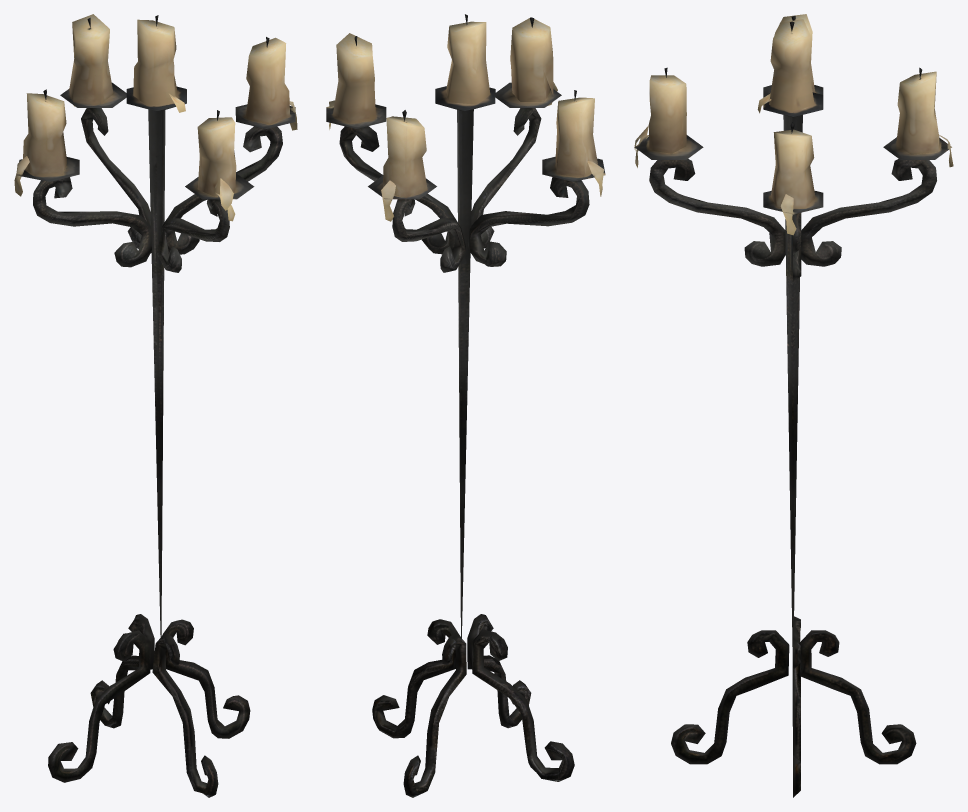
File: candelabro.fbx
The picture shows the model from 3 angles, left to right: view 1: azimuth 30°, elevation 25°; view 2: azimuth 150°, elevation 25°; view 3: azimuth 270°, elevation 25°; orthographic projection.
Parts seen in each view (by area): view 1: tripo_node_eb2f0a9f; view 2: tripo_node_eb2f0a9f; view 3: tripo_node_eb2f0a9f.
Part boxes in pixels (x1,y1,x2,y2): tripo_node_eb2f0a9f: (14,14,297,797); tripo_node_eb2f0a9f: (326,14,605,797); tripo_node_eb2f0a9f: (634,14,953,797).
Bounding box in the file's own units: 0.3921 × 0.9995 × 0.3892.
Materials: 1 (1 with a texture image).
